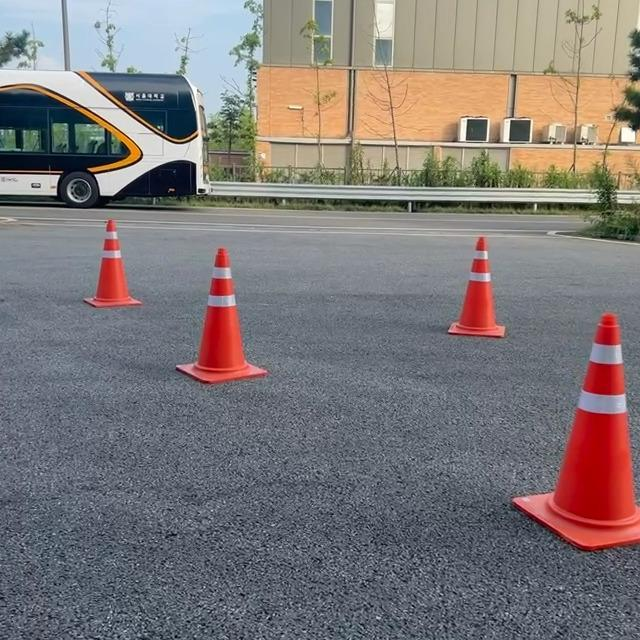fallen_object: (527, 269, 640, 594), (175, 229, 278, 418), (414, 191, 502, 356), (83, 212, 153, 309)
